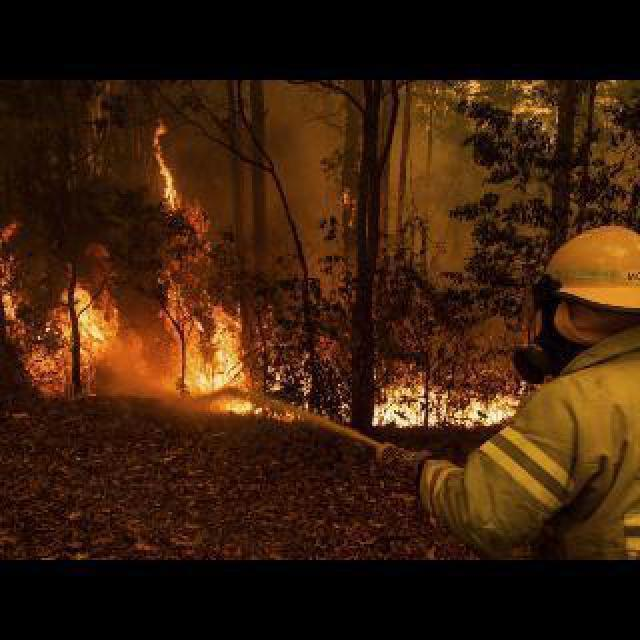Fire: (150, 118, 296, 418), (4, 222, 116, 398), (372, 364, 530, 426)
